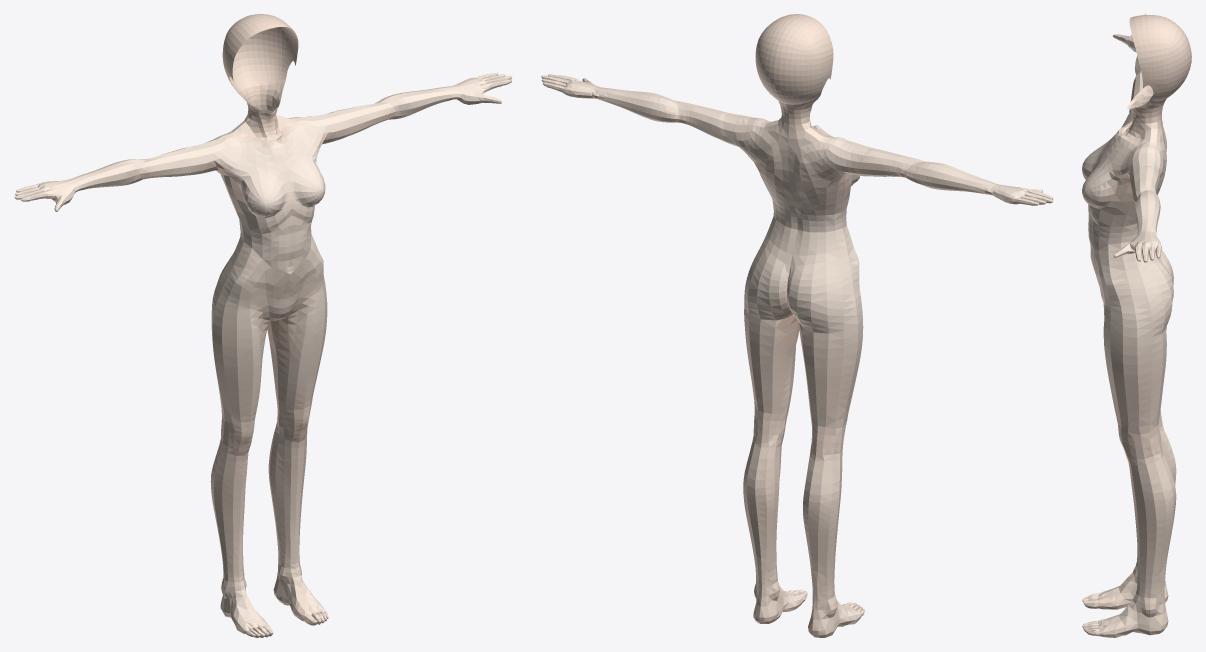
File: nude-feminine-body.obj
The picture shows the model from 3 angles, left to right: view 1: azimuth 30°, elevation 25°; view 2: azimuth 150°, elevation 25°; view 3: azimuth 270°, elevation 25°; orthographic projection. The views are drawn at different scales.
Visible parts, largest first — view 1: Body_00_SKIN; view 2: Body_00_SKIN; view 3: Body_00_SKIN.
Part boxes in pixels (box(x1,y1,x2,y2)): Body_00_SKIN: box(14, 14, 512, 637); Body_00_SKIN: box(541, 14, 1053, 637); Body_00_SKIN: box(1082, 14, 1191, 637).
Size of the model in its own units: 1.39 by 1.58 by 0.2612.
1 material, 1 textured.
